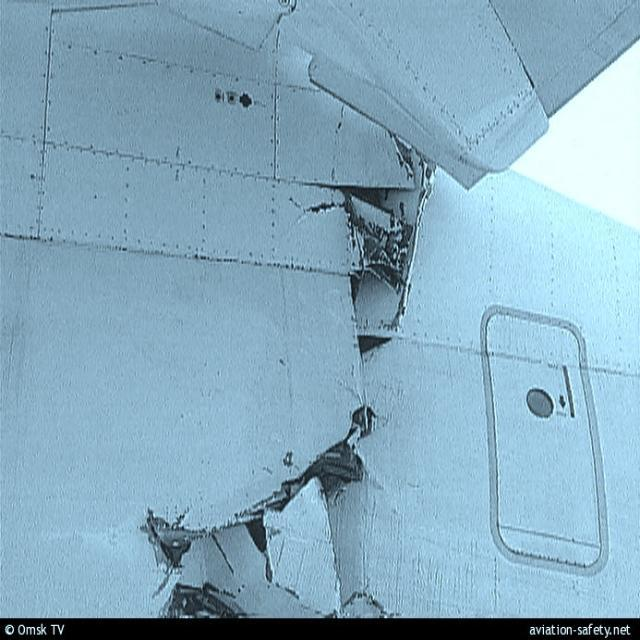crack: (142, 126, 445, 640)
